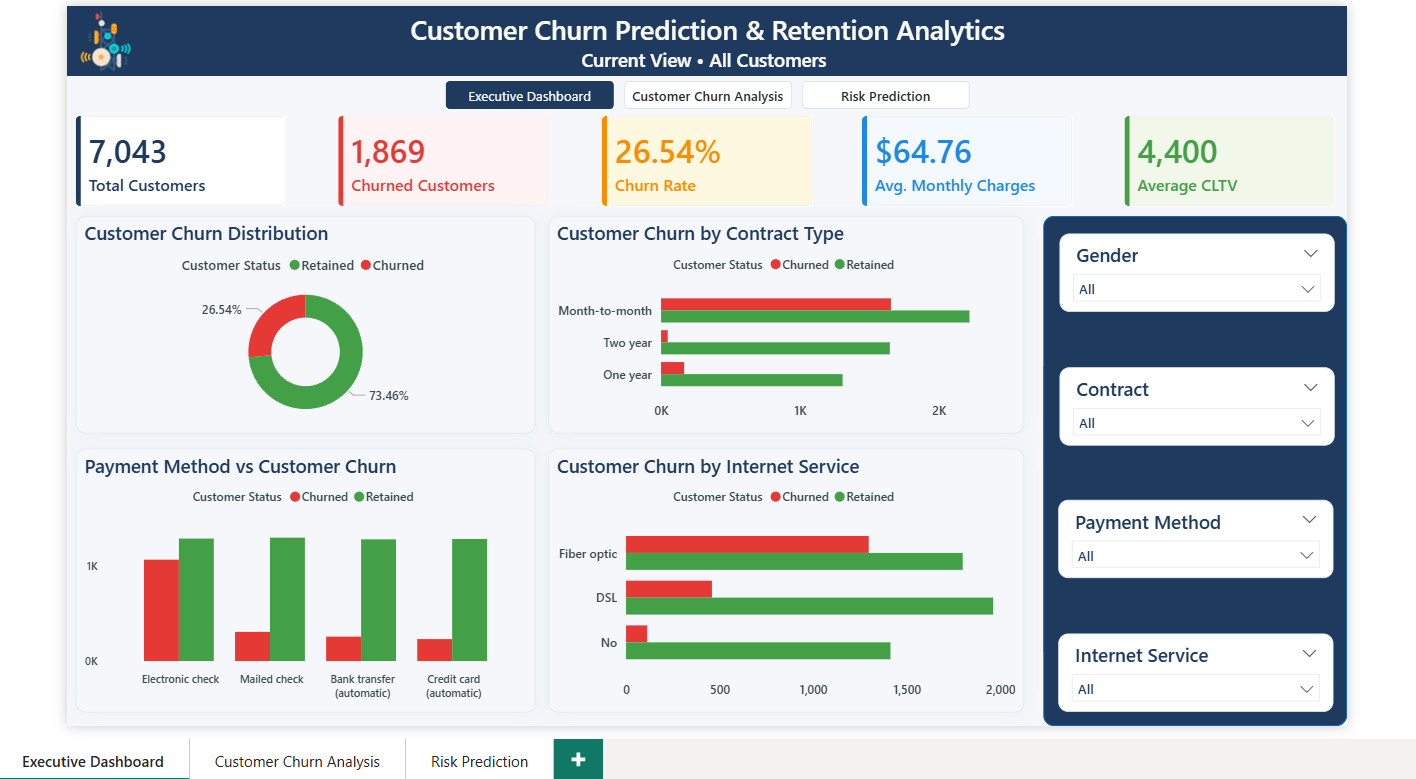

What the dashboard file says about the page in this screenshot:
{"tool":"powerbi","page":{"name":"Executive Dashboard","canvas":[1280,720],"ordinal":0},"visuals":[{"type":"shape","box":[0,0,1280,70],"z":0},{"type":"textbox","box":[246.2,0,788.8,52.5],"z":1000},{"type":"image","box":[8.8,5,60,60],"z":2000},{"type":"cardVisual","fields":{"Data":["customer_churn_with_risk.Total Customers"]},"box":[8.8,110,210,90],"z":3000},{"type":"cardVisual","fields":{"Data":["customer_churn_with_risk.Average Monthly Charges"]},"box":[795,110,210,90],"z":4000},{"type":"cardVisual","fields":{"Data":["customer_churn_with_risk.Churn Rate"]},"box":[535,110,210,90],"z":5000},{"type":"cardVisual","fields":{"Data":["customer_churn_with_risk.Churned Customers"]},"box":[271.2,110,210,90],"z":6000},{"type":"cardVisual","fields":{"Data":["customer_churn_with_risk.Average CLTV"]},"box":[1057.5,110,210,90],"z":7000},{"type":"donutChart","title":"Customer Churn Distribution","fields":{"Y":["CountNonNull(customer_churn_with_risk.CustomerID)"],"Category":["customer_churn_with_risk.Customer Status"]},"box":[8.8,210,460,217.5],"z":8000},{"type":"clusteredBarChart","title":"Customer Churn by Contract Type","fields":{"Category":["customer_churn_with_risk.Contract"],"Y":["CountNonNull(customer_churn_with_risk.CustomerID)"],"Series":["customer_churn_with_risk.Customer Status"]},"box":[481.2,210,476.2,217.5],"z":9000},{"type":"clusteredColumnChart","title":"Payment Method vs Customer Churn","fields":{"Category":["customer_churn_with_risk.Payment_Method"],"Y":["CountNonNull(customer_churn_with_risk.CustomerID)"],"Series":["customer_churn_with_risk.Customer Status"]},"box":[8.8,442.5,460,263.8],"z":10000},{"type":"clusteredBarChart","title":"Customer Churn by Internet Service","fields":{"Category":["customer_churn_with_risk.Internet_Service"],"Y":["CountNonNull(customer_churn_with_risk.CustomerID)"],"Series":["customer_churn_with_risk.Customer Status"]},"box":[481.2,442.5,476.2,263.8],"z":11000},{"type":"shape","box":[976.2,210,303.8,510],"z":12000},{"type":"slicer","fields":{"Values":["customer_churn_with_risk.Gender"]},"box":[992.5,227.5,275,78.8],"z":13000},{"type":"slicer","fields":{"Values":["customer_churn_with_risk.Internet_Service"]},"box":[991.2,627.5,275,78.8],"z":14000},{"type":"slicer","fields":{"Values":["customer_churn_with_risk.Payment_Method"]},"box":[991.2,494.2,275,78.8],"z":15000},{"type":"slicer","fields":{"Values":["customer_churn_with_risk.Contract"]},"box":[992.5,360.8,275,78.8],"z":16000},{"type":"cardVisual","fields":{"Data":["customer_churn_with_risk.Selected Filters"]},"box":[502.5,28.8,277.5,46.2],"z":17000},{"type":"pageNavigator","box":[378.8,75,525,28.8],"z":17002}]}

Visuals, with their boxes on the page's 1280x720 design canvas (x1, y1, x2, y2). These are canvas units, not pixel positions in the 1416x779 screenshot, which may show the page scaled, cropped or inside an application window:
shape: x1=0, y1=0, x2=1280, y2=70
textbox: x1=246, y1=0, x2=1035, y2=52
image: x1=9, y1=5, x2=69, y2=65
cardVisual - customer_churn_with_risk.Total Customers: x1=9, y1=110, x2=219, y2=200
cardVisual - customer_churn_with_risk.Average Monthly Charges: x1=795, y1=110, x2=1005, y2=200
cardVisual - customer_churn_with_risk.Churn Rate: x1=535, y1=110, x2=745, y2=200
cardVisual - customer_churn_with_risk.Churned Customers: x1=271, y1=110, x2=481, y2=200
cardVisual - customer_churn_with_risk.Average CLTV: x1=1058, y1=110, x2=1268, y2=200
"Customer Churn Distribution" donutChart: x1=9, y1=210, x2=469, y2=428
"Customer Churn by Contract Type" clusteredBarChart: x1=481, y1=210, x2=957, y2=428
"Payment Method vs Customer Churn" clusteredColumnChart: x1=9, y1=442, x2=469, y2=706
"Customer Churn by Internet Service" clusteredBarChart: x1=481, y1=442, x2=957, y2=706
shape: x1=976, y1=210, x2=1280, y2=720
slicer - customer_churn_with_risk.Gender: x1=992, y1=228, x2=1268, y2=306
slicer - customer_churn_with_risk.Internet_Service: x1=991, y1=628, x2=1266, y2=706
slicer - customer_churn_with_risk.Payment_Method: x1=991, y1=494, x2=1266, y2=573
slicer - customer_churn_with_risk.Contract: x1=992, y1=361, x2=1268, y2=440
cardVisual - customer_churn_with_risk.Selected Filters: x1=502, y1=29, x2=780, y2=75
pageNavigator: x1=379, y1=75, x2=904, y2=104
